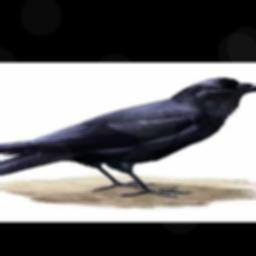Crow: (0, 76, 256, 199)
